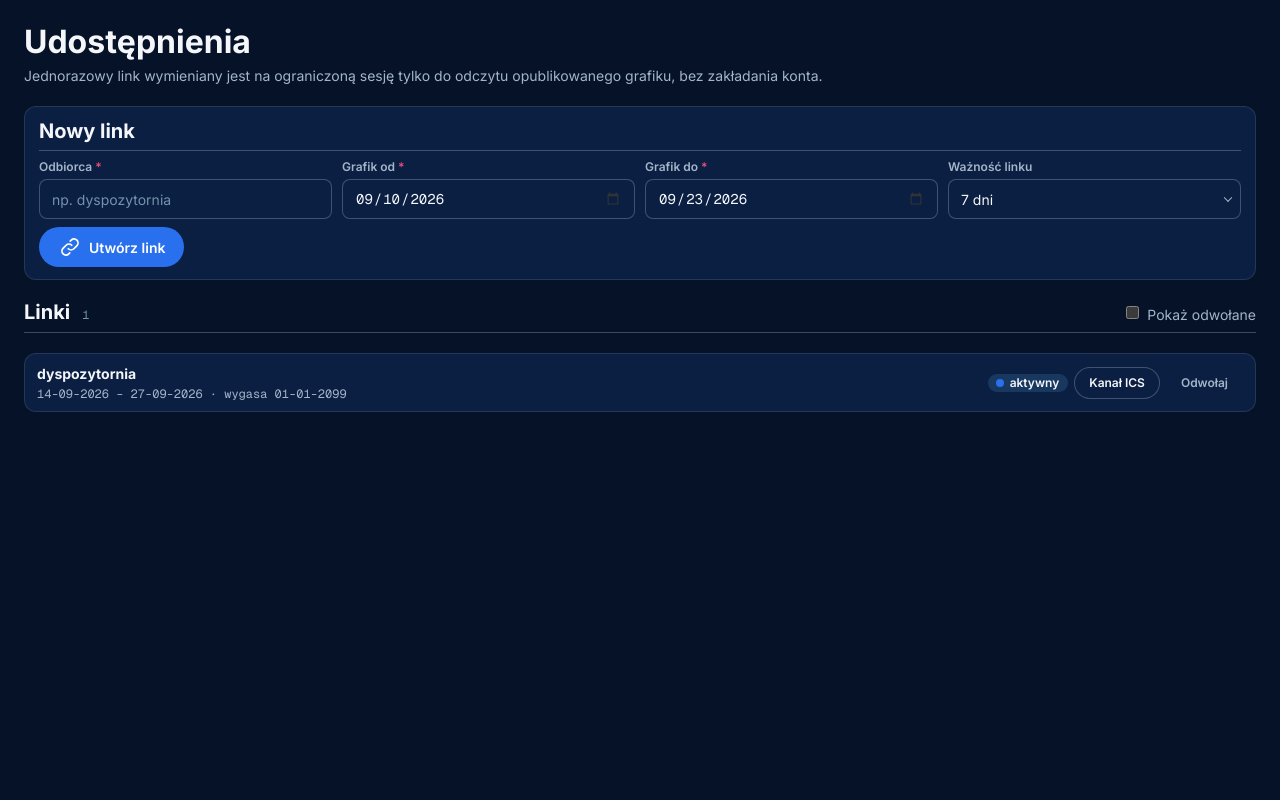
Test: ShareLinksPanel list › shows a refused revocation inside the still-open confirmation
Click the button "Odwołaj": click(1204, 382) [1166,366,1243,398]
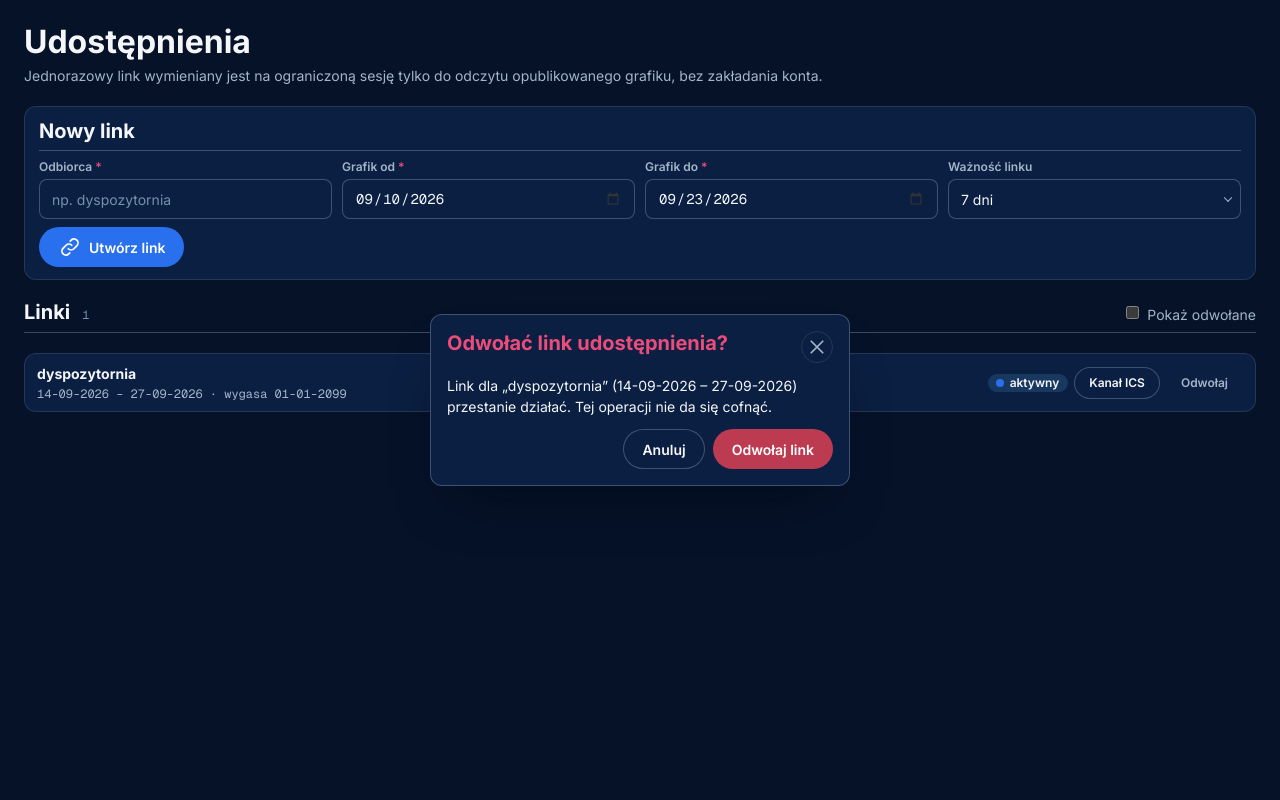
Click the button "Odwołaj link": click(773, 449) [713,429,833,469]
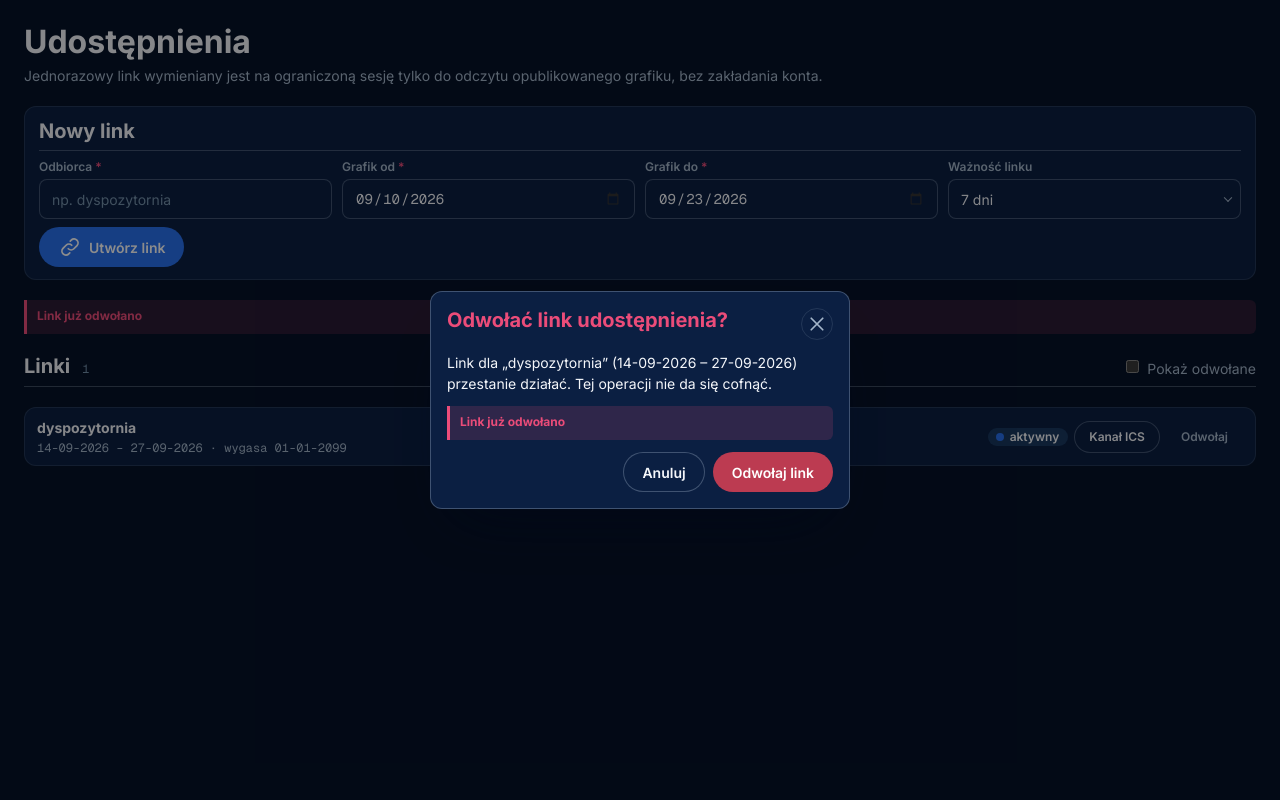
Now the text "Link już odwołano" is shown, box [460,414,565,429]
